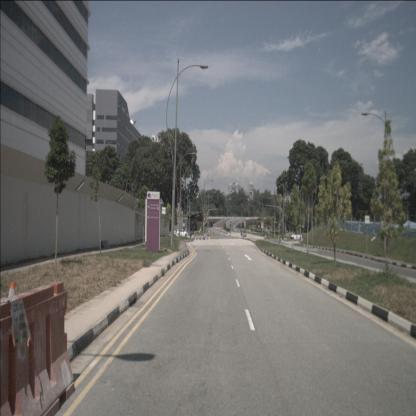barrier: (0, 282, 75, 415)
